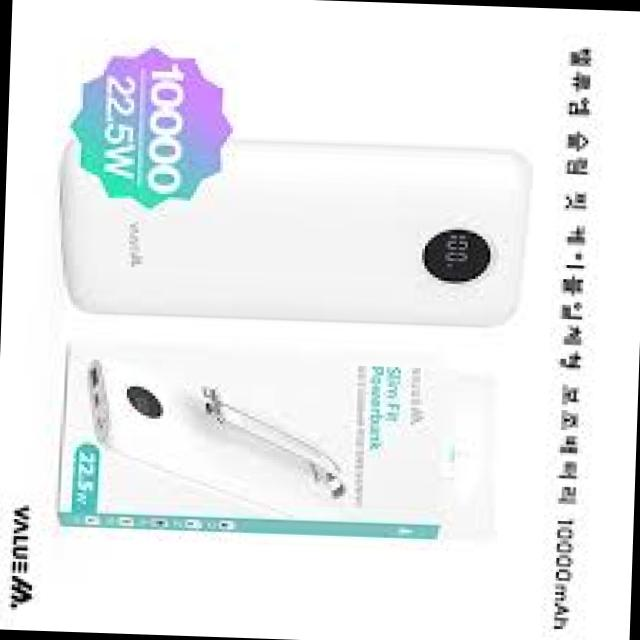power_bank: (56, 128, 534, 330), (86, 364, 355, 506)
